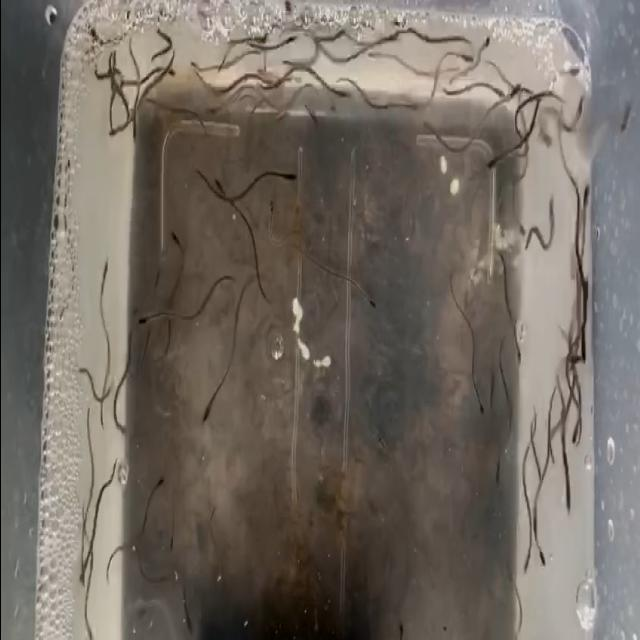inactive_glass_eel: (511, 320, 528, 376), (616, 94, 632, 150), (571, 83, 591, 125), (498, 73, 524, 105), (577, 168, 592, 222), (146, 470, 166, 510), (490, 445, 506, 493), (561, 54, 586, 84), (559, 473, 572, 530), (576, 321, 588, 381), (392, 5, 414, 37), (482, 147, 502, 182), (367, 42, 388, 72), (476, 22, 493, 58), (84, 12, 100, 49), (201, 392, 217, 428), (76, 544, 90, 585), (98, 256, 111, 298), (516, 541, 530, 579), (212, 174, 231, 202), (128, 109, 140, 153), (360, 287, 380, 313), (536, 538, 550, 575), (473, 391, 487, 428), (182, 606, 198, 638), (134, 310, 150, 342), (454, 46, 476, 68), (188, 60, 210, 82), (483, 86, 507, 106), (108, 120, 128, 143), (568, 410, 582, 442), (164, 226, 180, 254), (279, 166, 300, 184), (331, 88, 351, 106), (82, 606, 92, 640), (266, 200, 276, 232), (395, 620, 407, 640)
